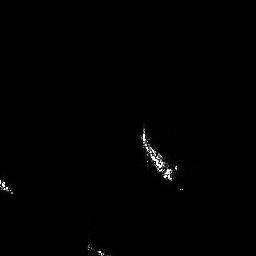ship: (133, 122, 181, 188), (1, 175, 18, 198)
